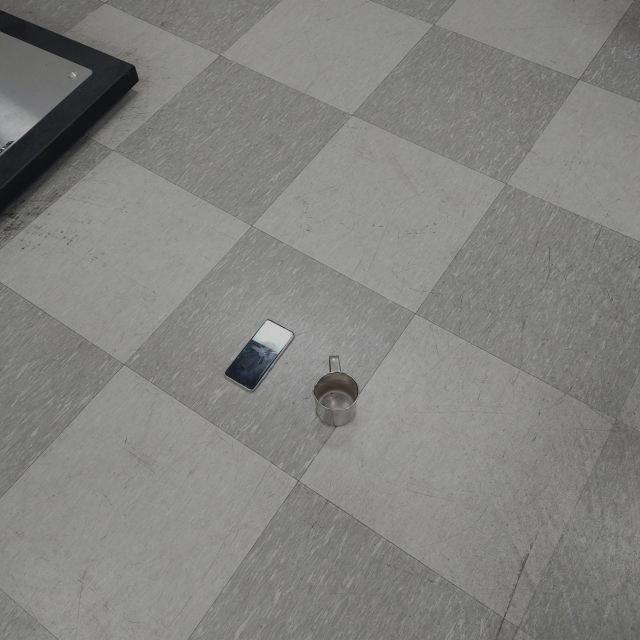cup: (310, 355, 358, 425)
phone: (225, 318, 295, 392)
